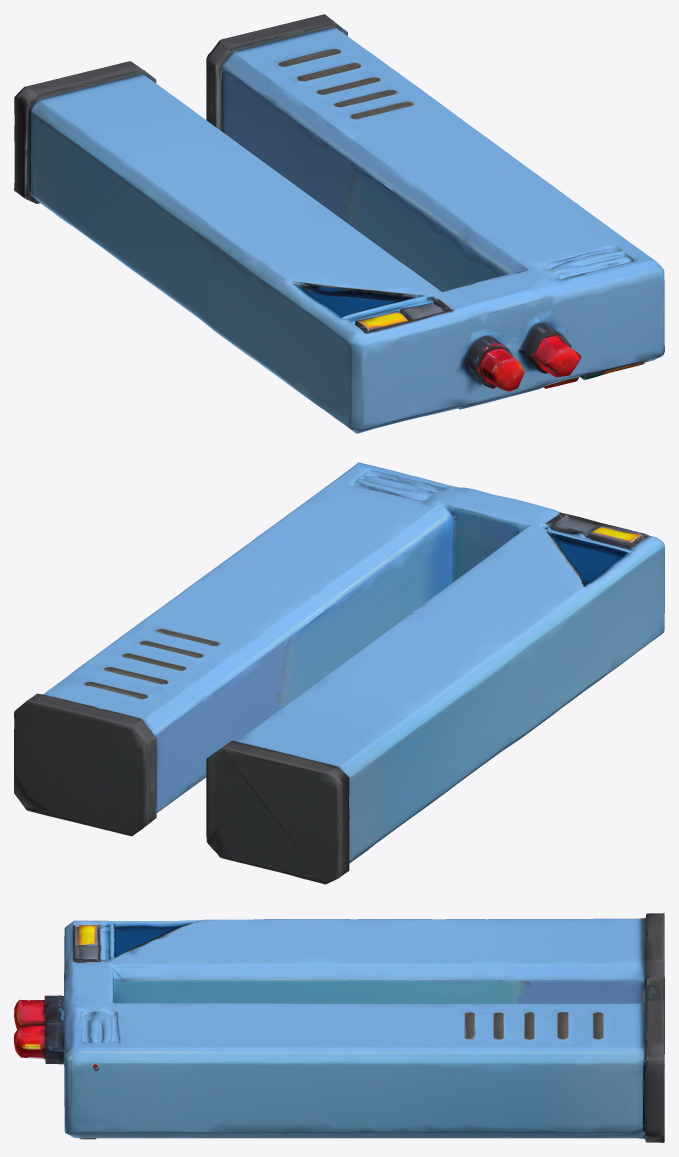
Rendered from Californio_antes.fbx.
3 views of the same model, one above another, from view 1: azimuth 30°, elevation 25°; view 2: azimuth 150°, elevation 25°; view 3: azimuth 270°, elevation 25° (orthographic). The views are drawn at different scales.
Parts seen in each view (by area): view 1: Mesh_0.013; view 2: Mesh_0.013; view 3: Mesh_0.013.
Part boxes in pixels (x1,y1,x2,y2): Mesh_0.013: [14, 14, 664, 433]; Mesh_0.013: [14, 462, 664, 884]; Mesh_0.013: [14, 913, 664, 1142].
Size of the model in its own units: 0.2608 by 0.0929 by 0.5075.
1 material, 1 textured.
